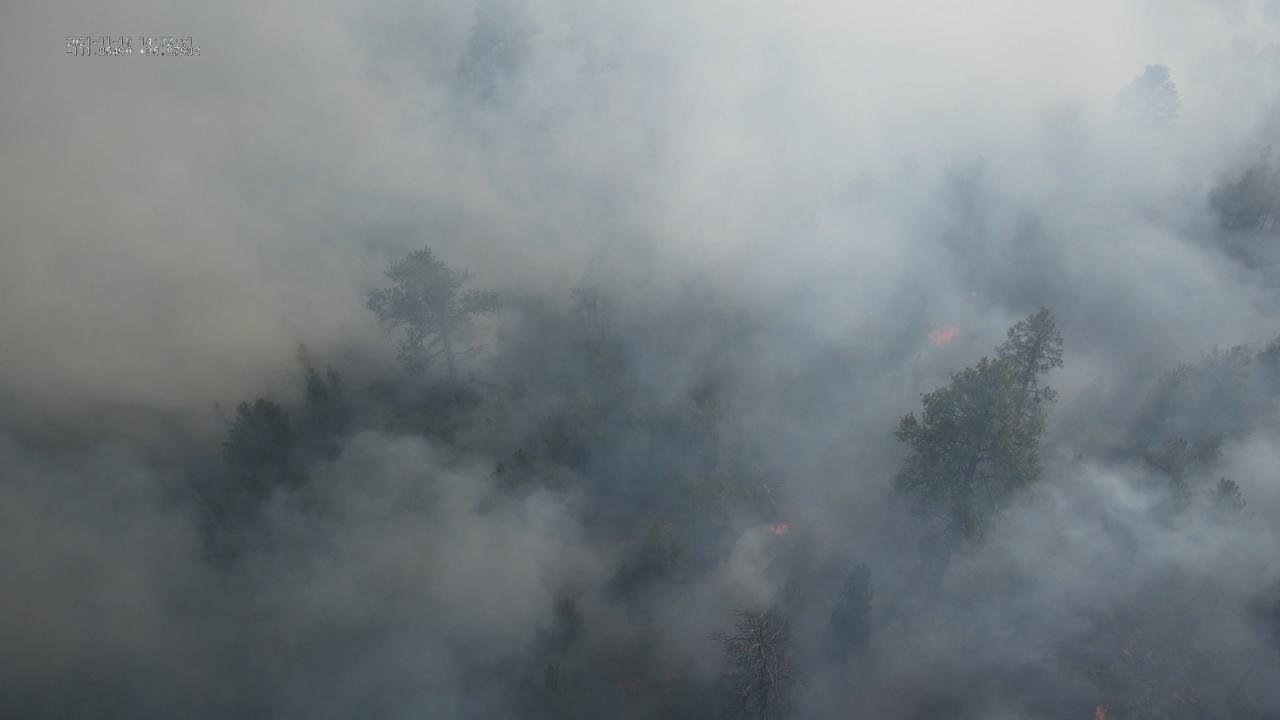fire: (925, 324, 958, 348), (1091, 702, 1111, 720), (766, 522, 790, 536)
smoke: (0, 0, 1280, 720)
